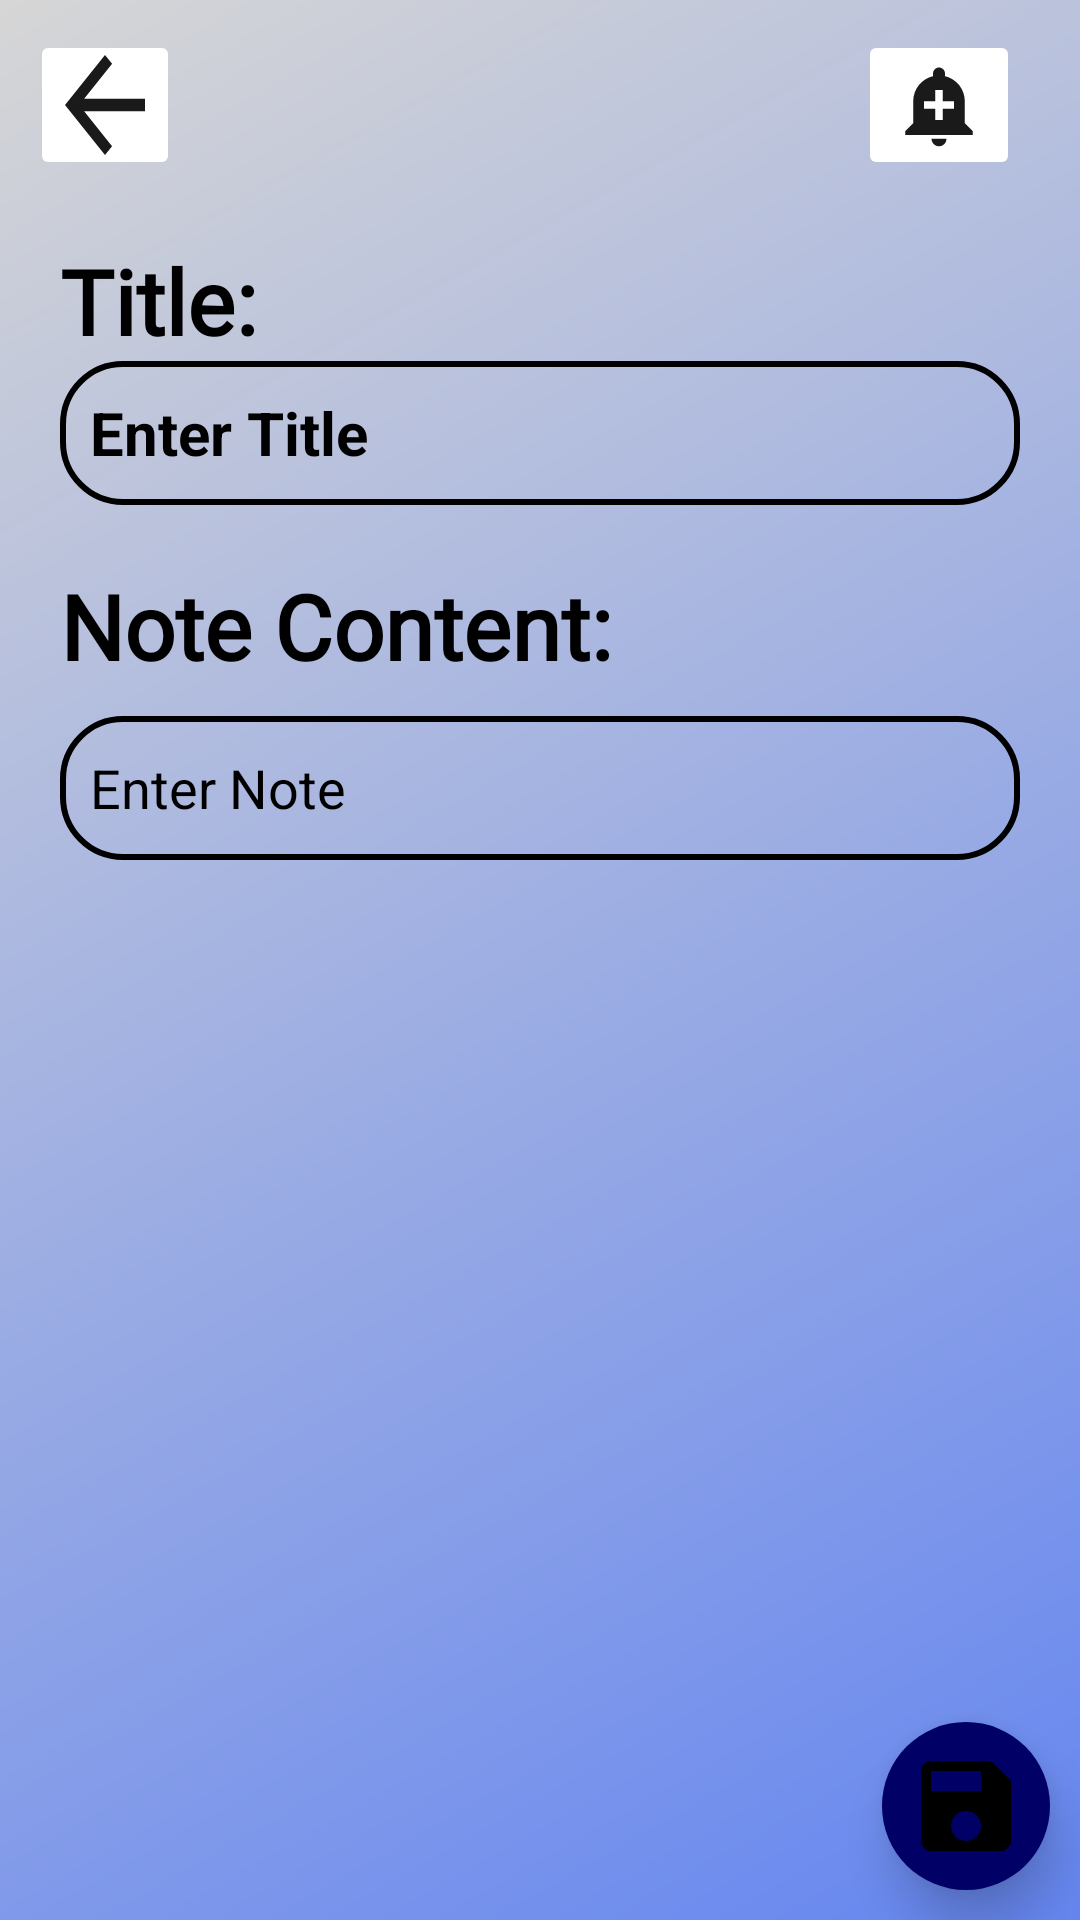

Named icons in this screenshot (1080px x 1920px) and their bounding boxes, box=[x1, y1, x2, y2]:
add alert: box=[870, 48, 1008, 162]
arrow back: box=[42, 48, 168, 162]
save: box=[882, 1722, 1050, 1890]
